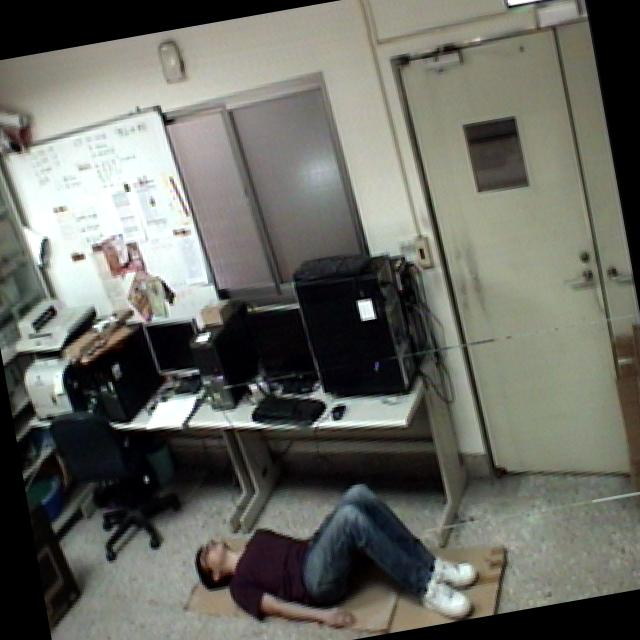lie: (181, 458, 492, 640)
